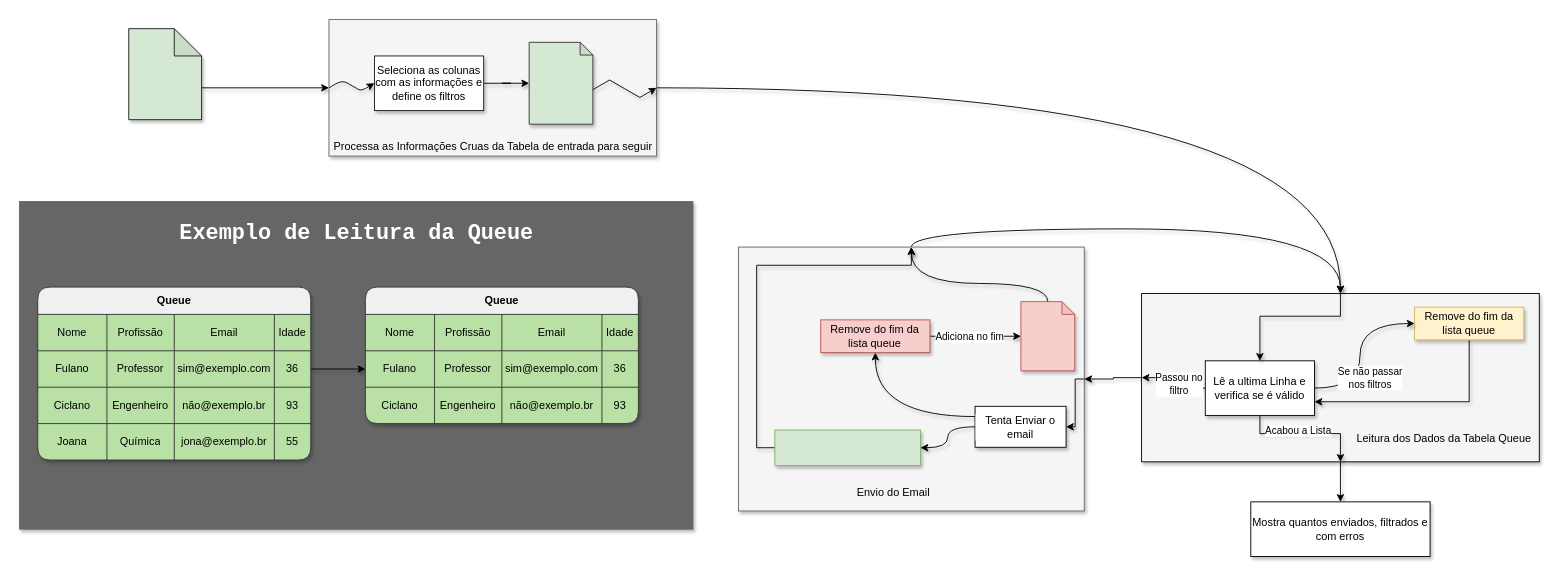
The diagram is 1561 pixels wide and 579 high, and some of its shapes have lost their labels. The centre of each missing label's shape, as x and y in pixels:
"Consegue enviar e remove o fim da lista queue" goes at (x=848, y=448).
"Lista de Emeils para enviar (Queue)" goes at (x=561, y=84).
"Lista dos Erros" goes at (x=1048, y=337).
"Tabela com os Emails e Nomes" goes at (x=165, y=75).
